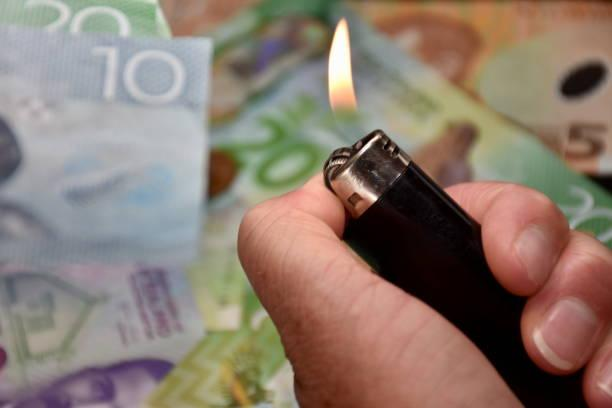Fire: (325, 12, 360, 119)
